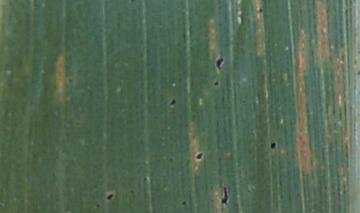tarspot: (212, 54, 226, 74), (219, 185, 231, 205), (193, 150, 206, 164), (104, 191, 116, 203), (166, 96, 178, 108), (93, 202, 103, 210), (269, 141, 277, 151), (212, 80, 221, 88), (180, 199, 188, 206), (67, 77, 74, 85), (257, 7, 264, 14), (142, 175, 149, 182)
